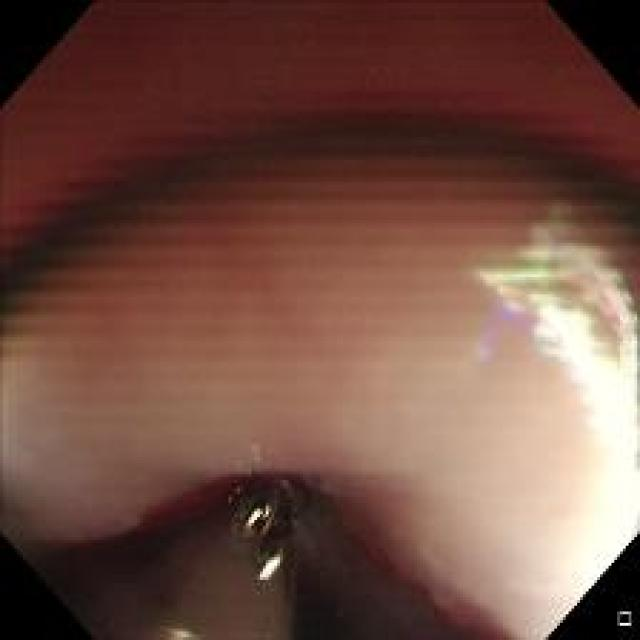blur: (2, 14, 631, 409)
color misalignment: (475, 205, 636, 352), (158, 610, 212, 638)
contrast: (50, 488, 469, 634)
saturation: (539, 448, 638, 605)
specularity: (569, 354, 638, 464), (238, 496, 272, 530), (255, 551, 285, 584)
